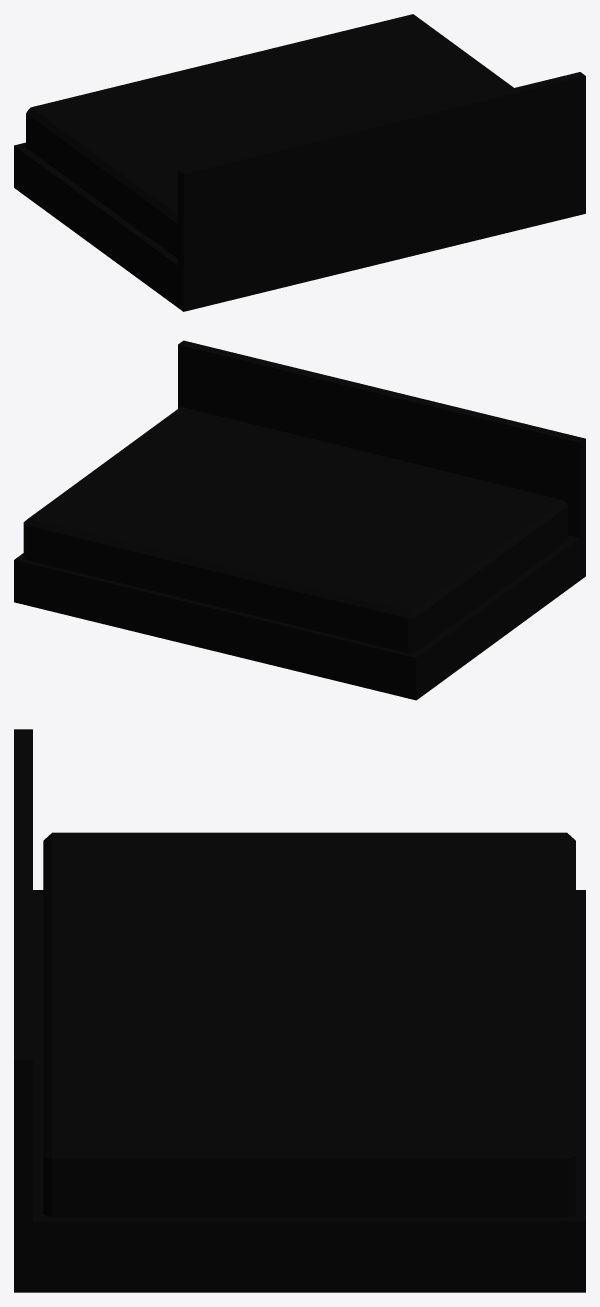
The model's file is KingBed.fbx.
3 views of the same model, one above another, from view 1: azimuth 30°, elevation 25°; view 2: azimuth 150°, elevation 25°; view 3: azimuth 270°, elevation 25° (orthographic). The views are drawn at different scales.
Parts seen in each view (by area): view 1: node_id6; view 2: node_id6; view 3: node_id6.
Part boxes in pixels (<box>): node_id6: <box>14,14,585,311</box>; node_id6: <box>14,340,585,700</box>; node_id6: <box>14,729,585,1292</box>.
Bounding box in the file's own units: 0.512 × 0.1674 × 0.3737.
2 materials, 2 textured.
